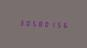eight: (35, 19, 40, 27)
five: (29, 19, 34, 27), (53, 20, 58, 28)
one: (47, 20, 52, 28)
six: (59, 20, 64, 29)
three: (17, 18, 22, 26)
zero: (23, 18, 28, 27), (41, 19, 46, 28)
